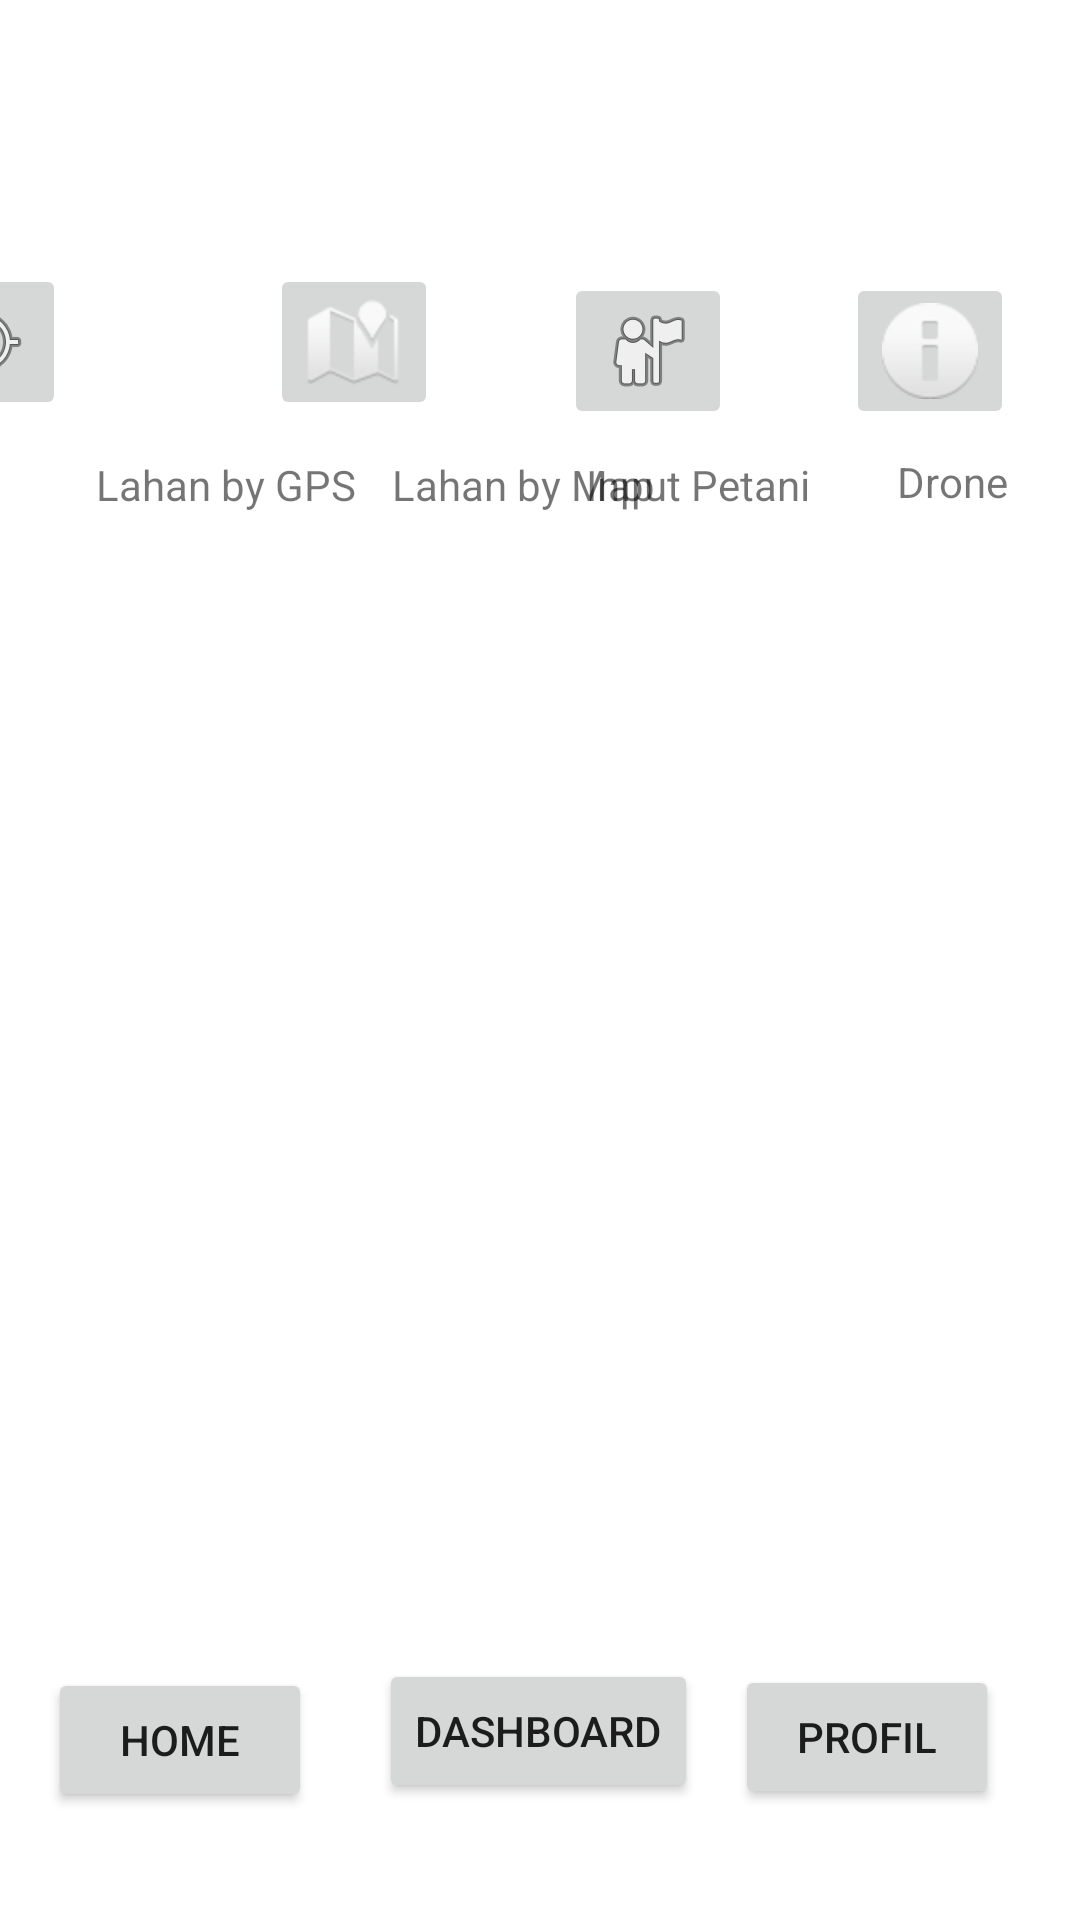

Where to tap for icons on this 1080px x 1920px app screen, as point (x, y):
info: point (930, 351)
myplaces: point (648, 351)
